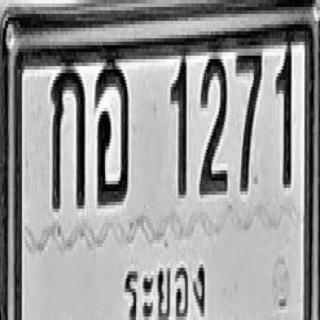A01: (51, 64, 85, 207)
A43: (95, 58, 128, 204)
N01: (170, 54, 187, 196), (275, 45, 291, 188)
N02: (199, 54, 227, 193)
N07: (236, 50, 262, 190)
P53: (122, 248, 215, 320)
